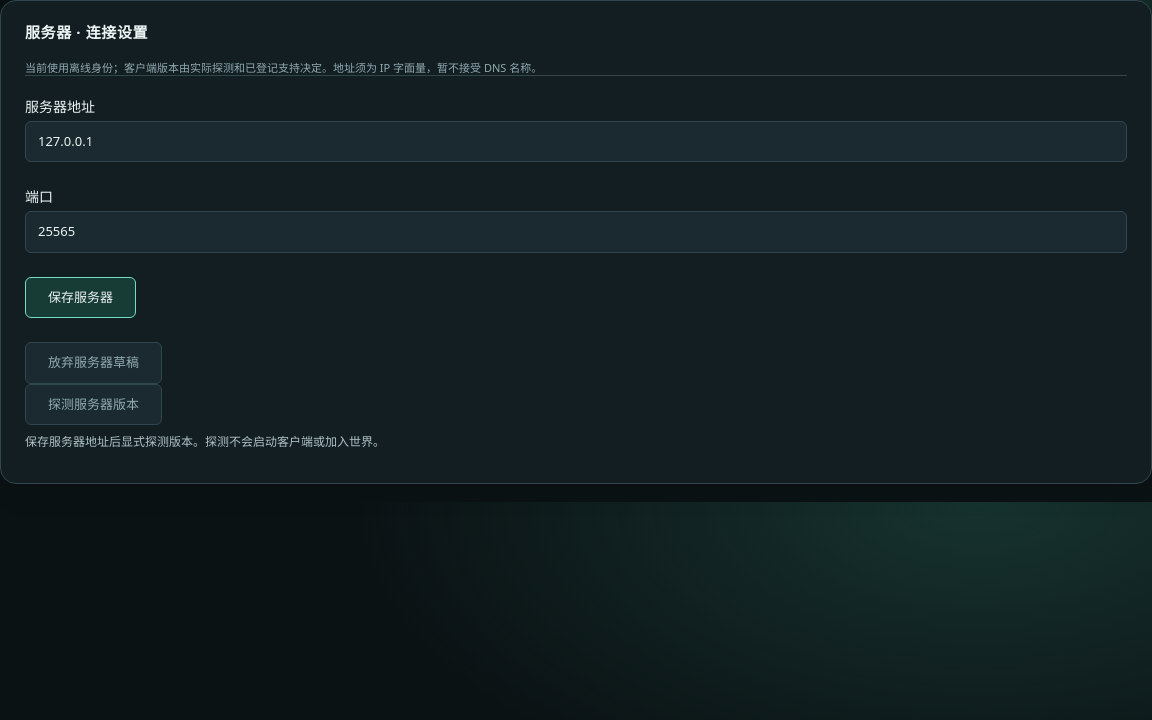
Test case: 服务器设置 › 远程地址保存后仍需显式许可，编辑清除许可
Check: the button with test id "server-save" is enabled, box [25,277,136,318]
Replace the text in the field with test id "server-host" with "192.0.2.1" at (576, 142), box [25,121,1127,162]
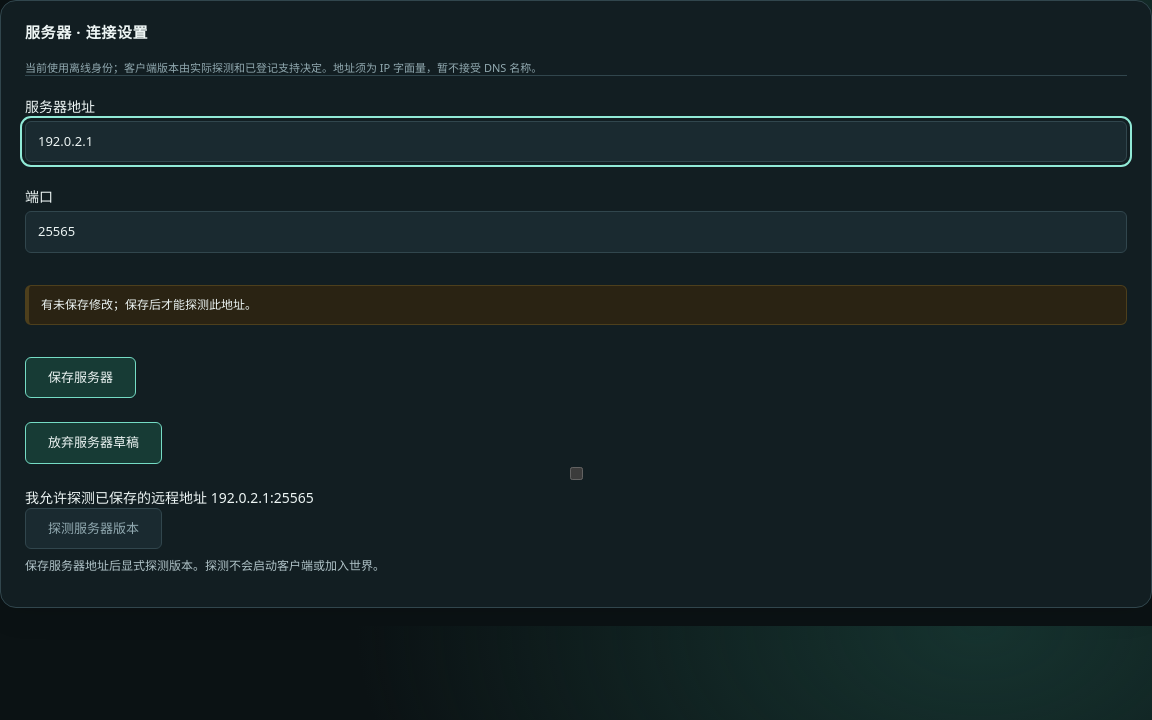
Click the button with test id "server-save" at (80, 378), box [25,357,136,398]
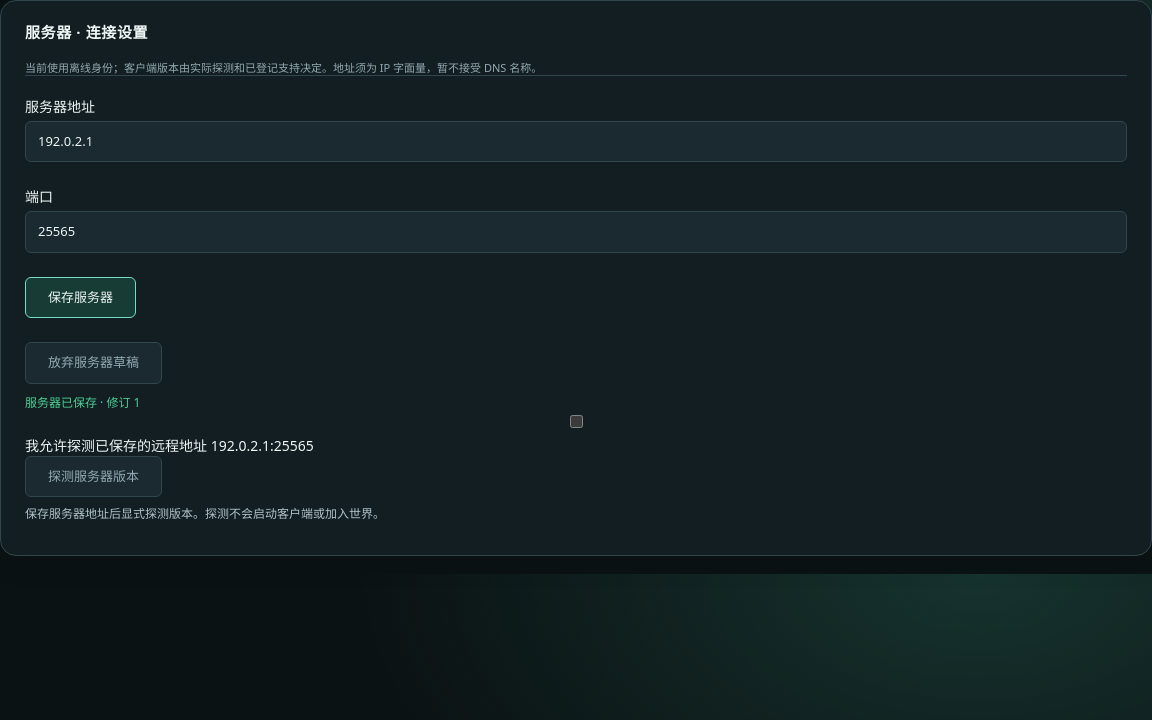
Check: the button with test id "server-probe" is disabled, box [25,456,162,497]
Check: the checkbox is enabled
Click the checkbox at (576, 421), box [29,415,1124,428]
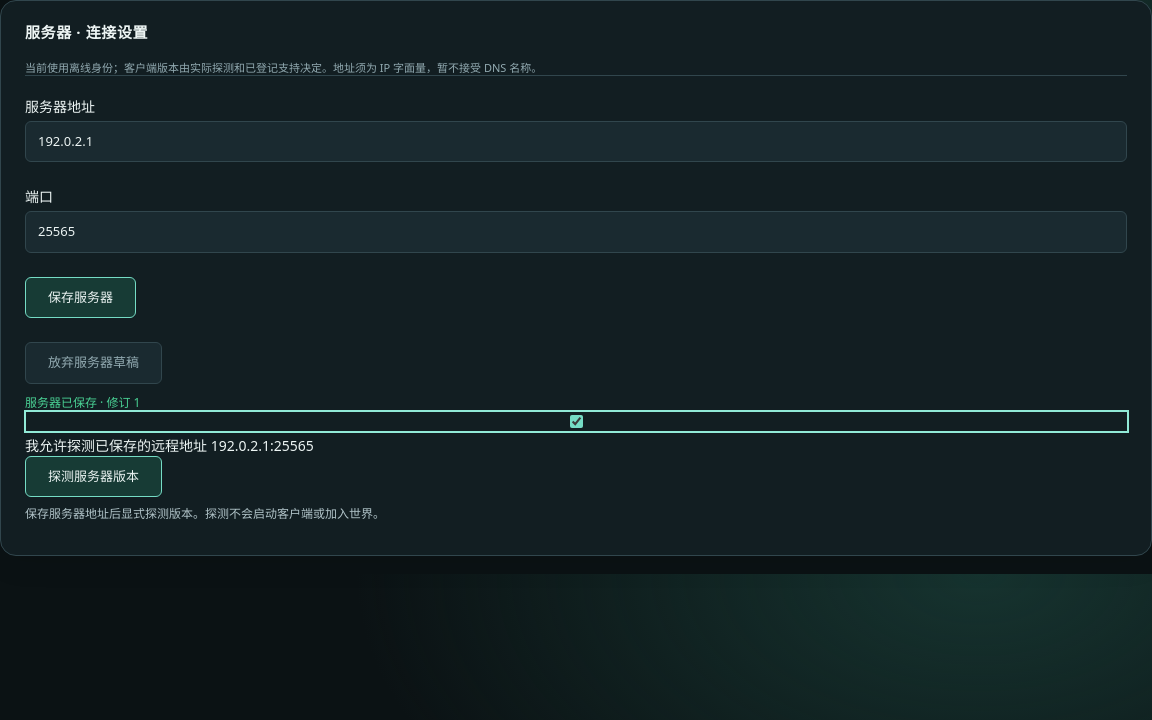
Check: the button with test id "server-probe" is enabled, box [25,456,162,497]
Type "7" into the field with test id "server-port" at (576, 232), box [25,211,1127,253]
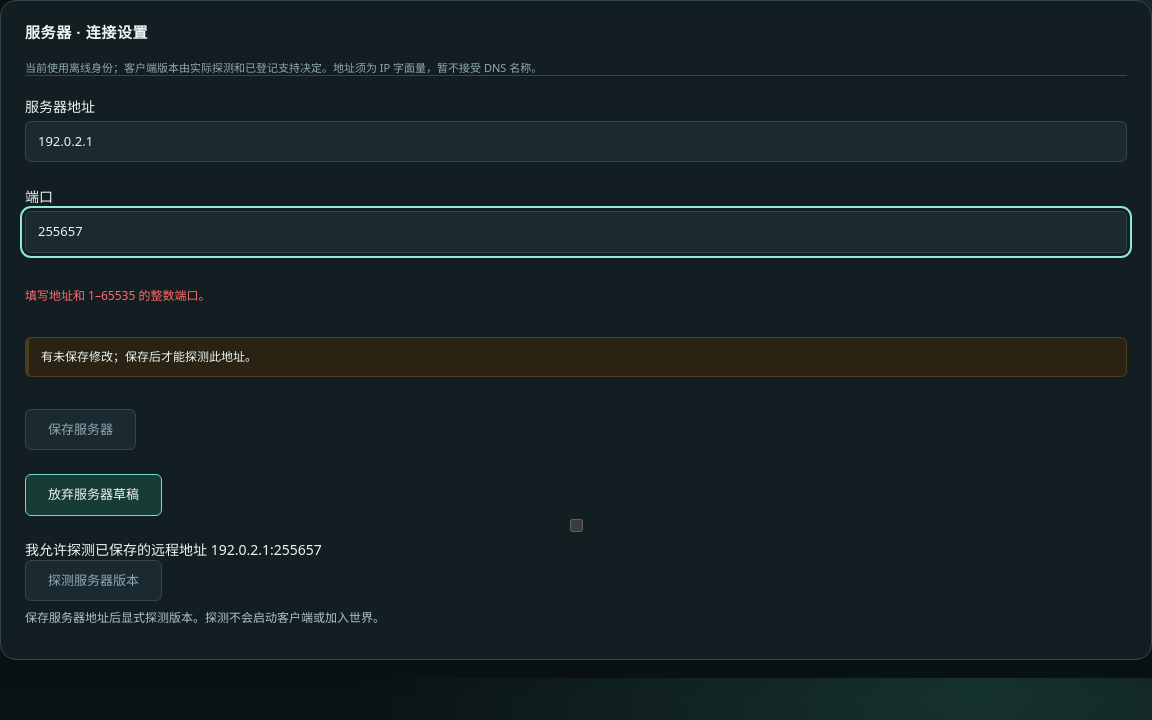
Check: the checkbox is not checked, box [29,519,1124,532]
Check: the button with test id "server-probe" is disabled, box [25,560,162,601]
